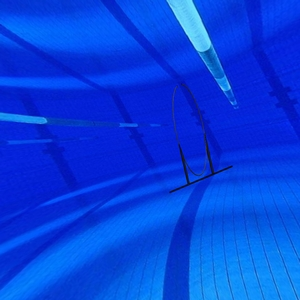circle: (167, 81, 234, 195)
